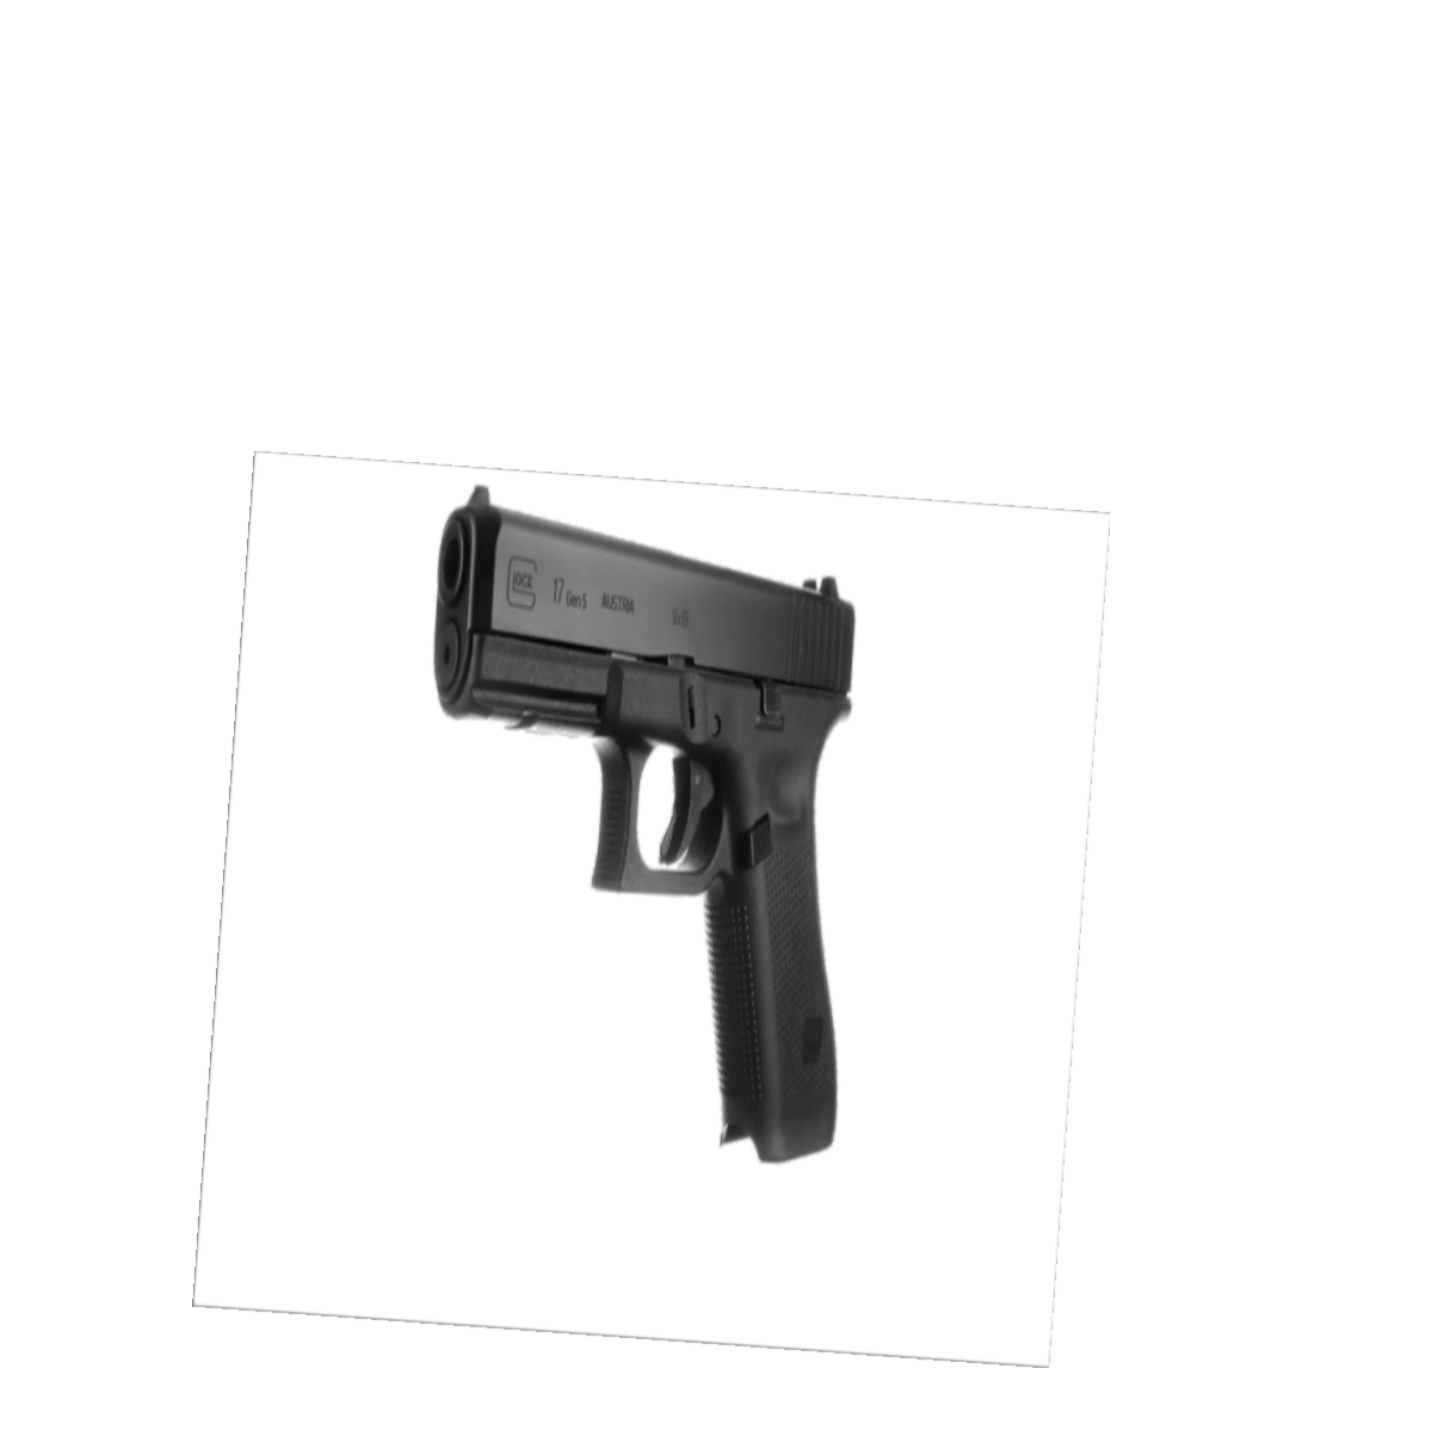gun: (420, 485, 865, 1171)
